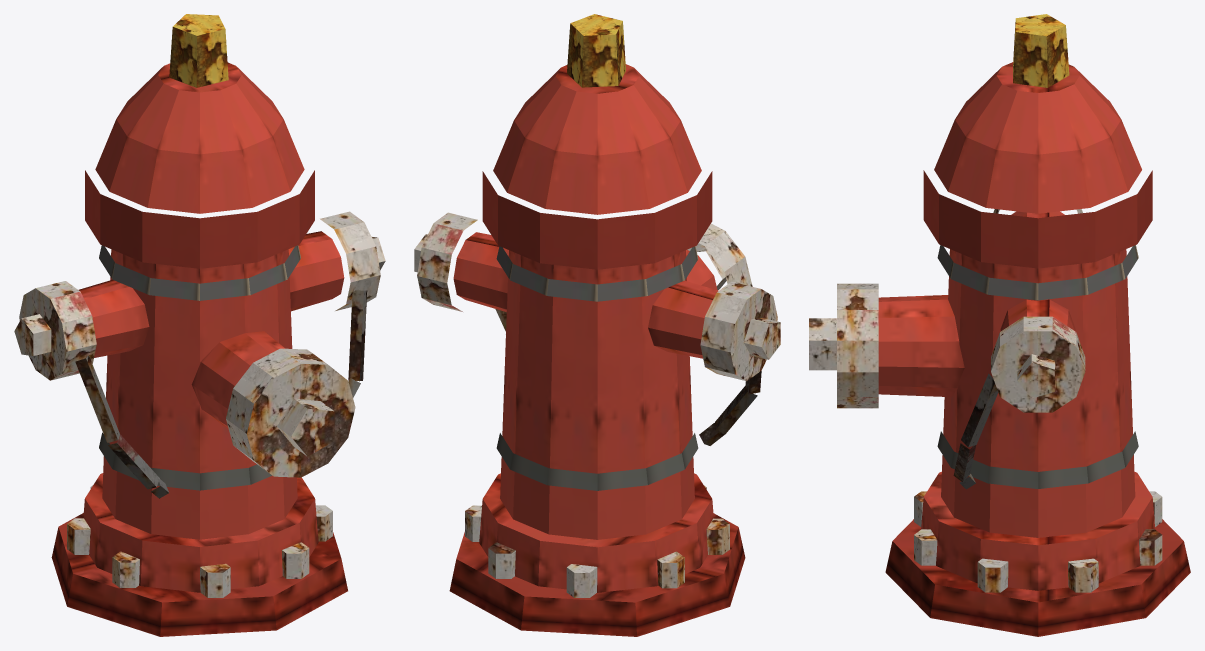
The model's file is prop_hydrant.glb.
3 views of the same model, side by side, from view 1: azimuth 30°, elevation 25°; view 2: azimuth 150°, elevation 25°; view 3: azimuth 270°, elevation 25° (orthographic).
Visible parts, largest first — view 1: prop_hydrant_mesh; view 2: prop_hydrant_mesh; view 3: prop_hydrant_mesh.
Boxes of the visible parts, x1=… form: prop_hydrant_mesh: x1=14, y1=14, x2=385, y2=636; prop_hydrant_mesh: x1=414, y1=14, x2=780, y2=636; prop_hydrant_mesh: x1=809, y1=14, x2=1190, y2=636.
Bounding box in the file's own units: 0.58 × 0.87 × 0.55.
3 materials, 3 textured.
